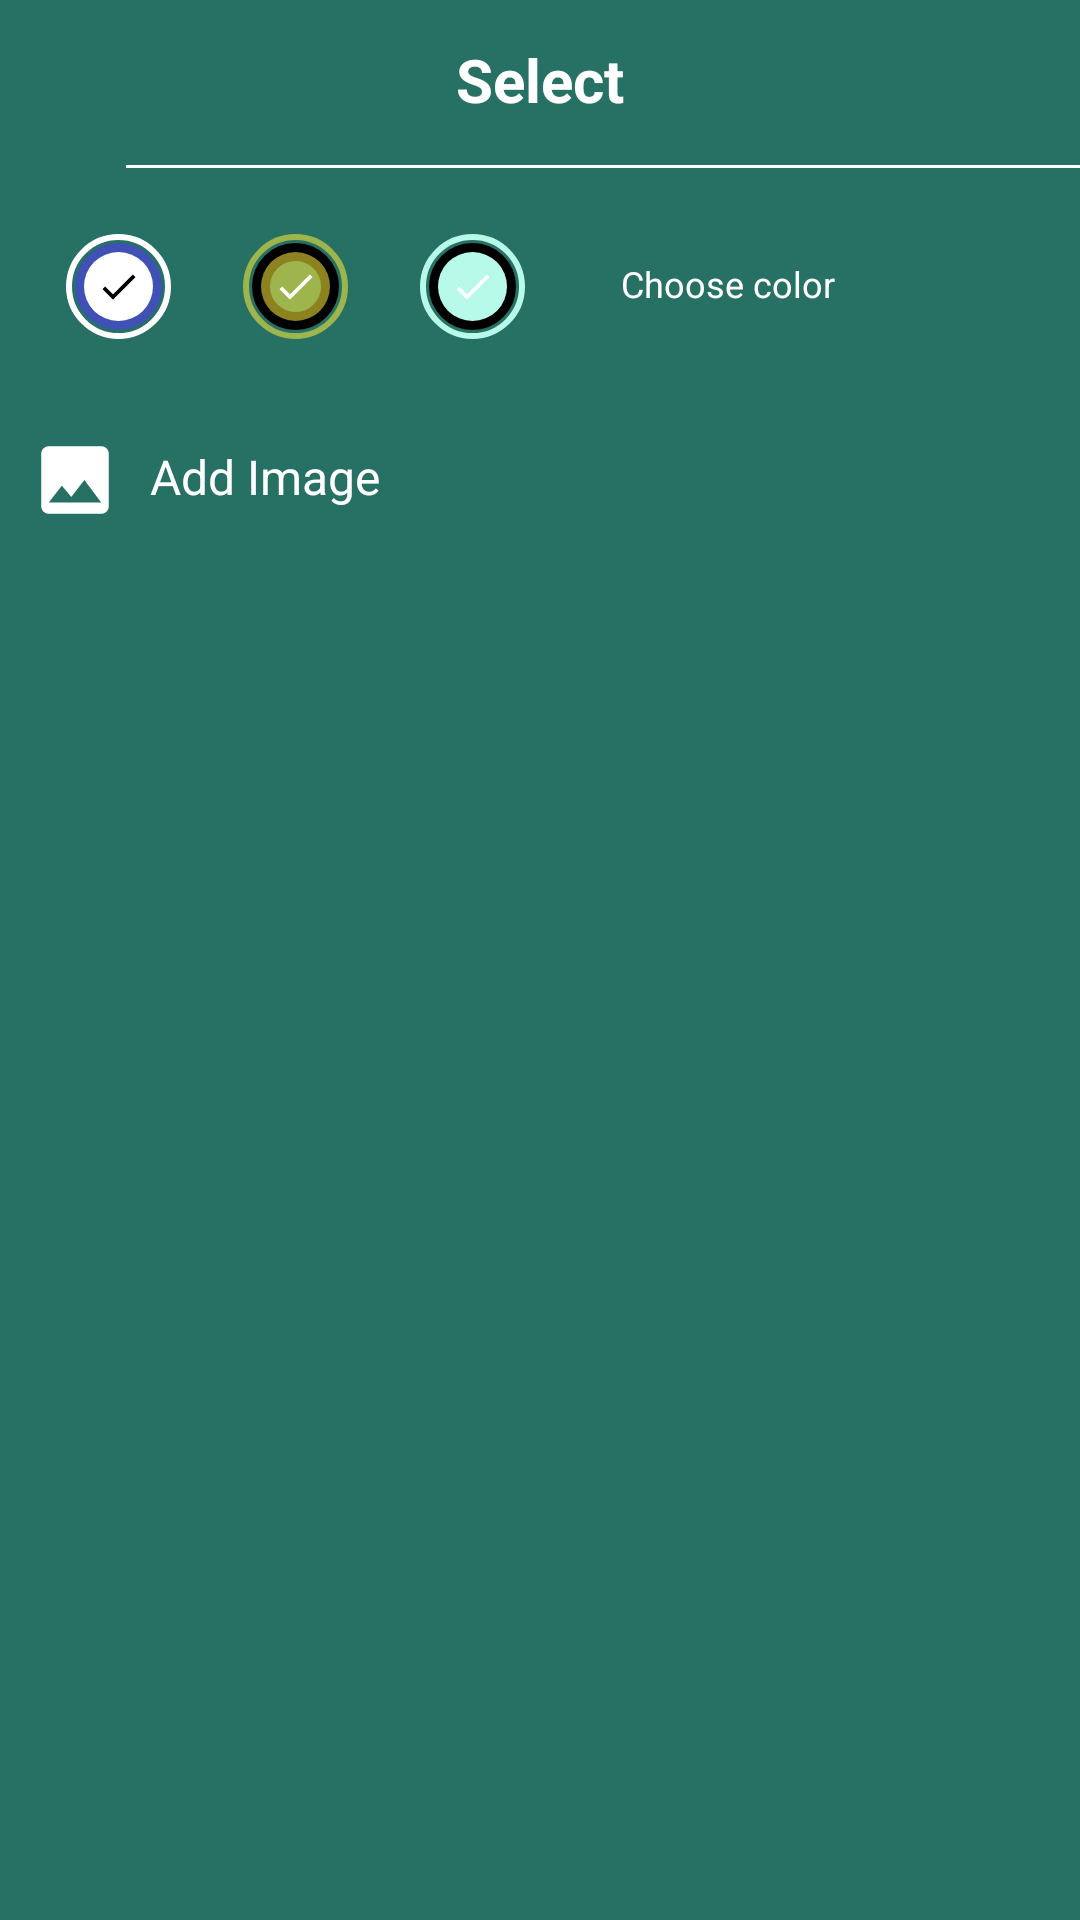

Screen size 1080 × 1920. Icon name, then its center in pixels as [x,y]:
done: [118,286], [295,286], [472,286]
